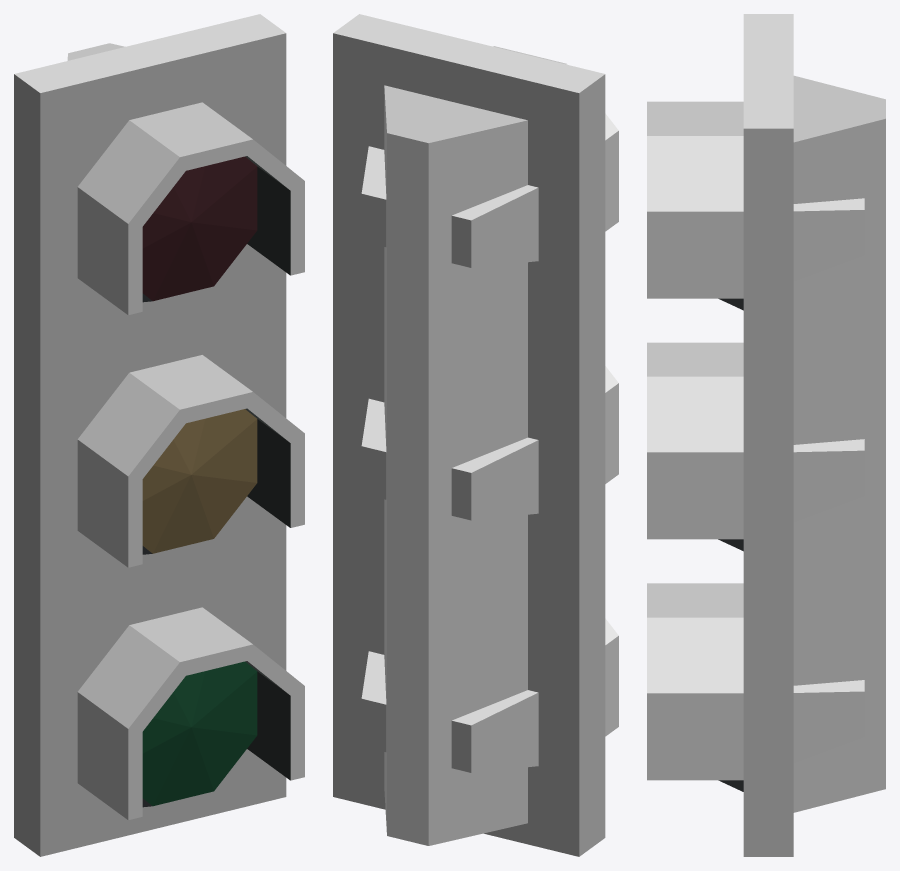
Rendered from TB_CITY_Prop_TrafficLight_B_White.FBX.
3 renders of one model, left to right at view 1: azimuth 30°, elevation 25°; view 2: azimuth 150°, elevation 25°; view 3: azimuth 270°, elevation 25°, orthographic. The views are drawn at different scales.
Visible parts, largest first — view 1: TB_CITY_Prop_TrafficLight_B_White; view 2: TB_CITY_Prop_TrafficLight_B_White; view 3: TB_CITY_Prop_TrafficLight_B_White.
Part boxes in pixels (left/top/right/bottom): TB_CITY_Prop_TrafficLight_B_White: left=14, top=14, right=304, bottom=856; TB_CITY_Prop_TrafficLight_B_White: left=333, top=14, right=618, bottom=856; TB_CITY_Prop_TrafficLight_B_White: left=647, top=14, right=885, bottom=856.
Size of the model in its own units: 1.03 by 3.04 by 0.9038.
